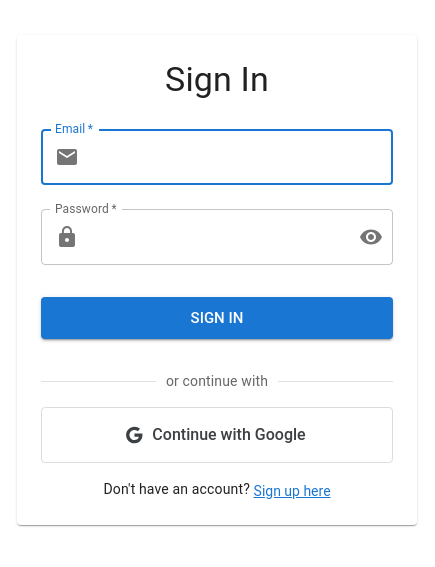
Test: LoginForm › Form Validation › should clear field errors when user starts typing
Note: Trigger validation error
Step 1. Click the button "Sign In" → [217, 318], box [41,297,393,340]
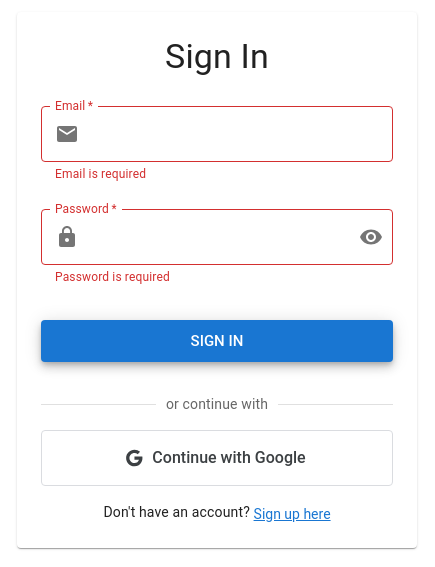
Now the text "Email is required" is shown, box [55,167,146,181]
Note: Start typing to clear error
Step 2. Type "t" into the field labelled "Email *" → [240, 134], box [87,106,393,162]
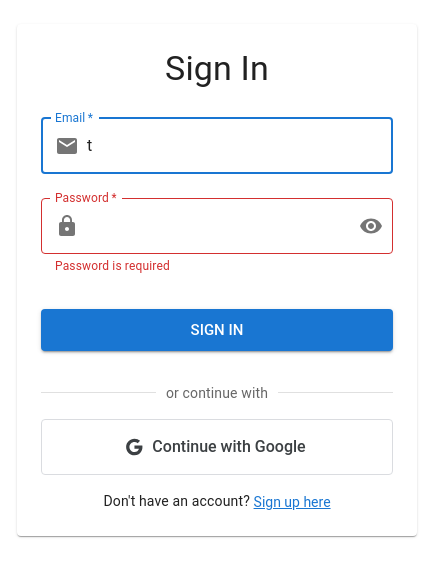
Now the text "Email is required" is gone
